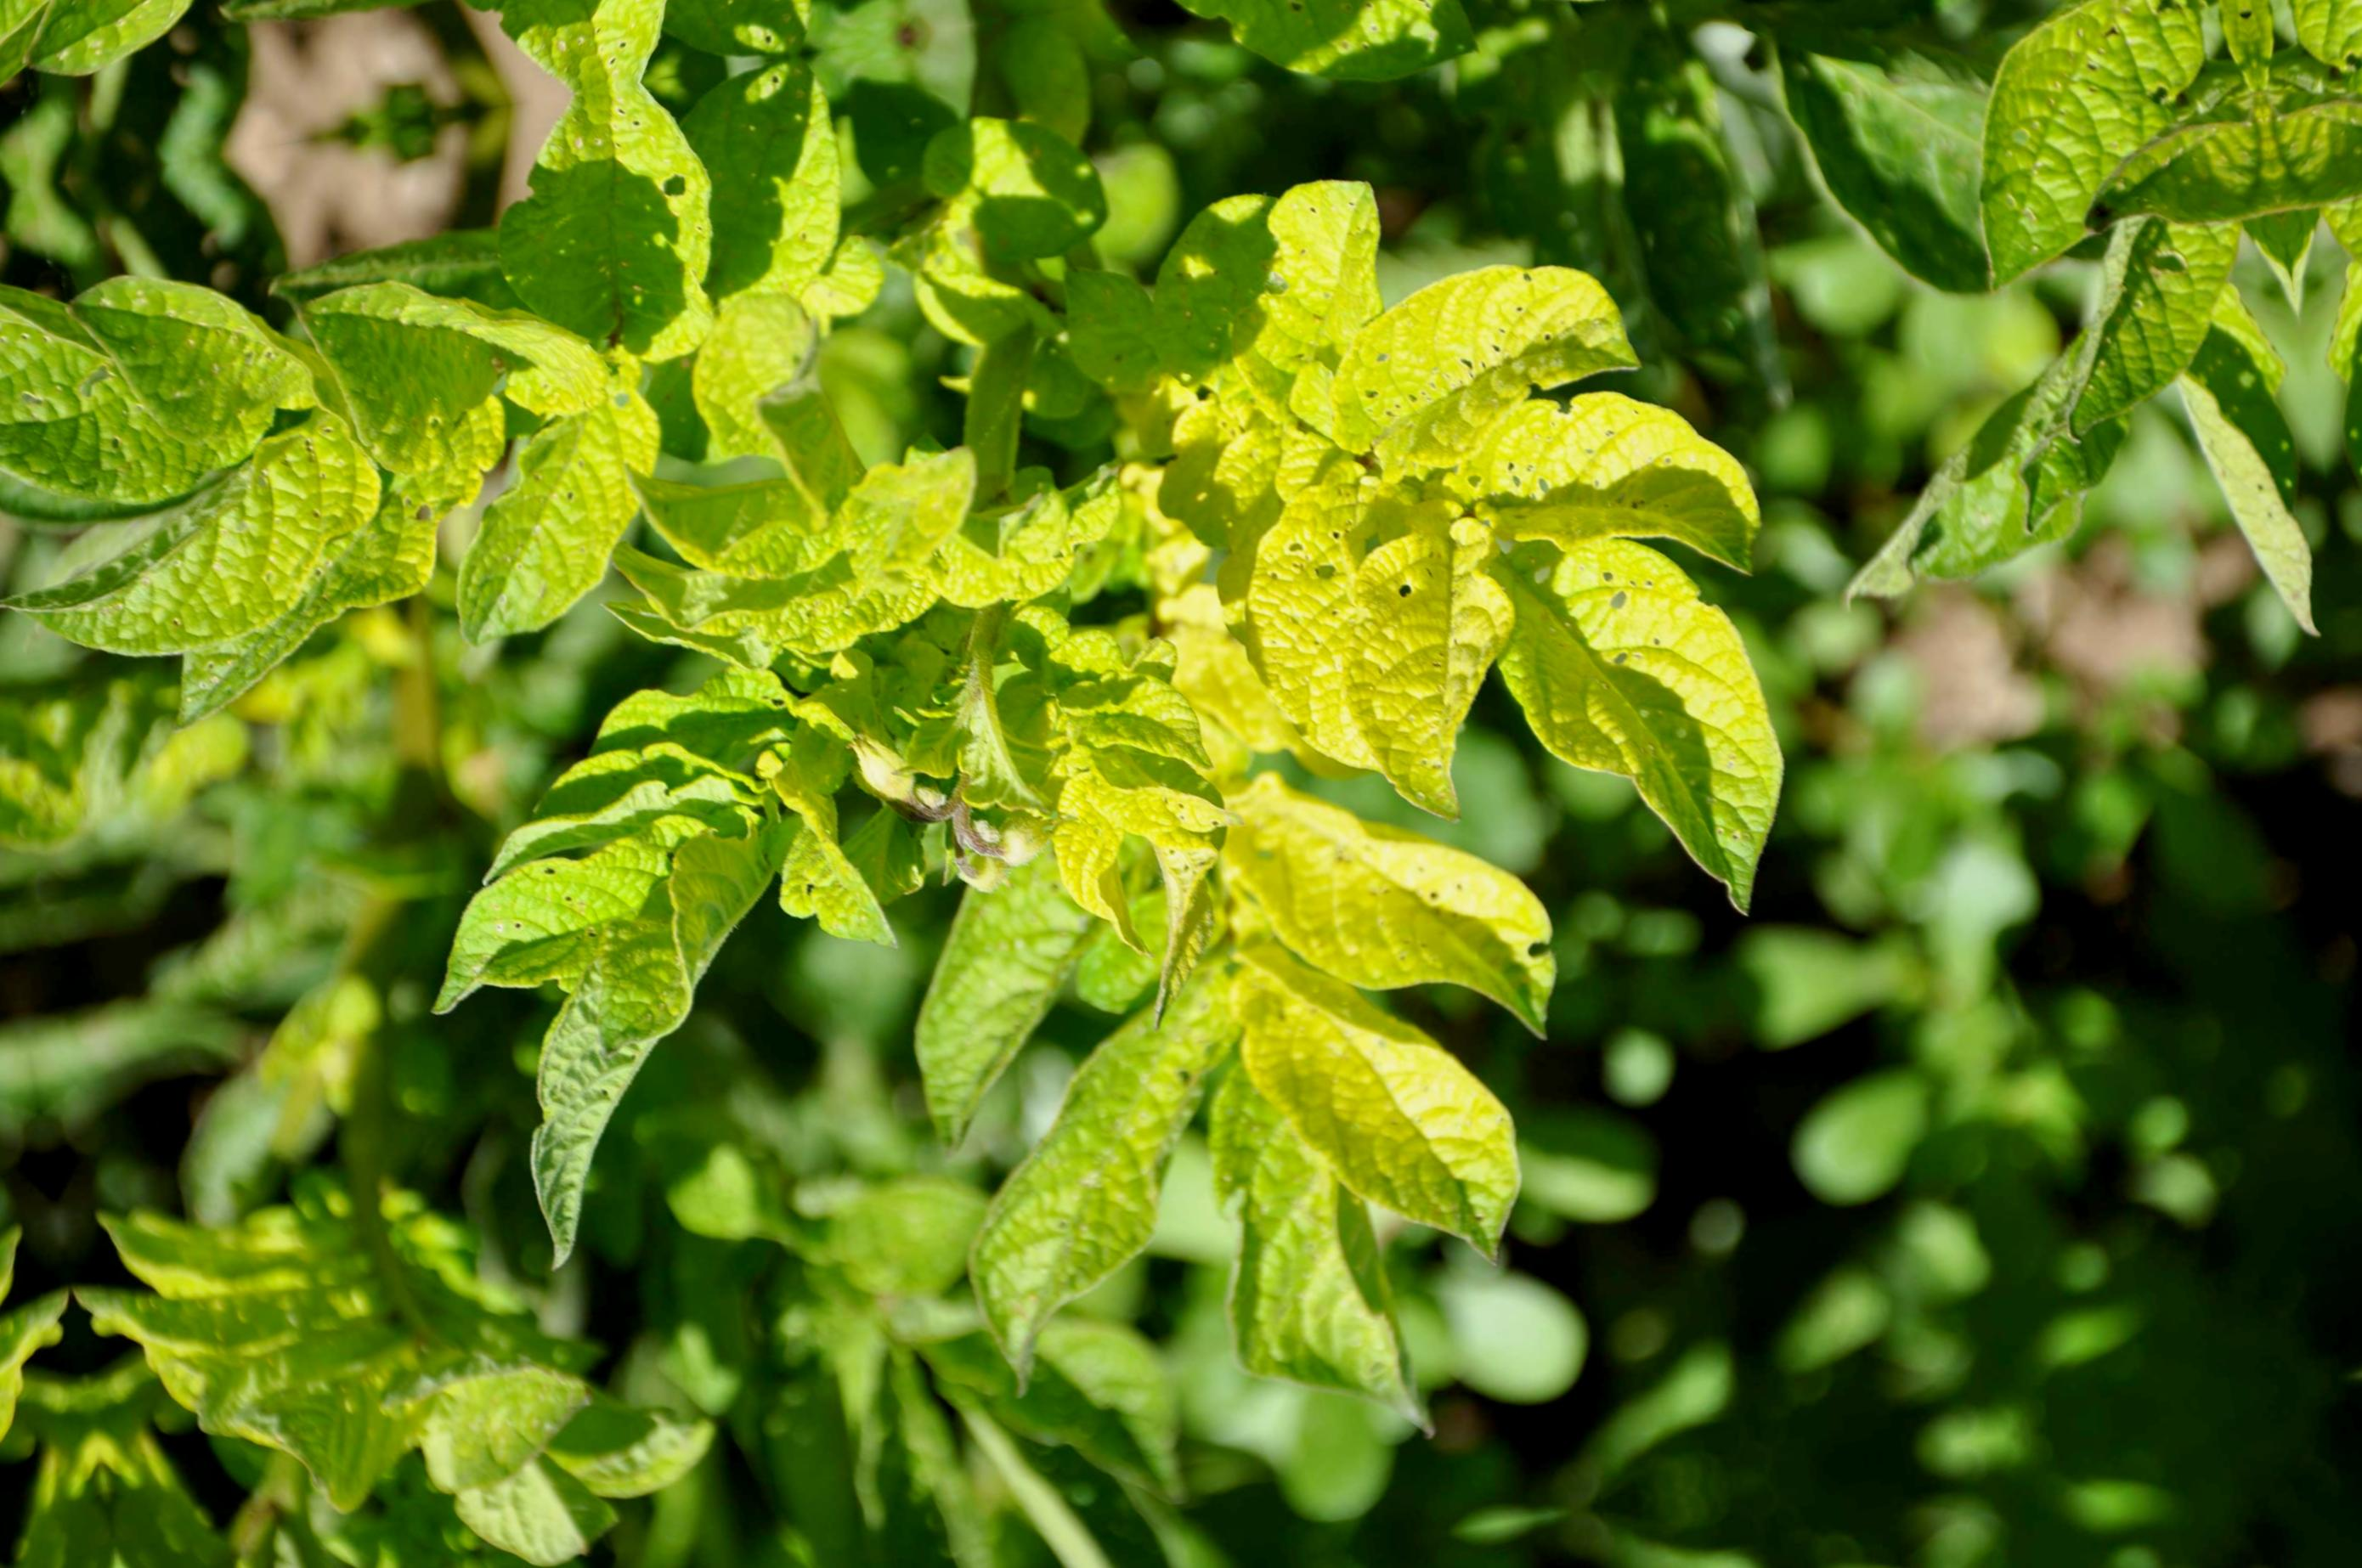Tomato leaf yellow virus: (1464, 527, 1867, 935), (567, 374, 1015, 714), (390, 261, 733, 703), (892, 1003, 1260, 1416), (0, 374, 436, 700), (1197, 915, 1548, 1300), (1216, 707, 1585, 1067), (1911, 0, 2292, 336), (383, 770, 759, 1057), (1302, 474, 1538, 859)
